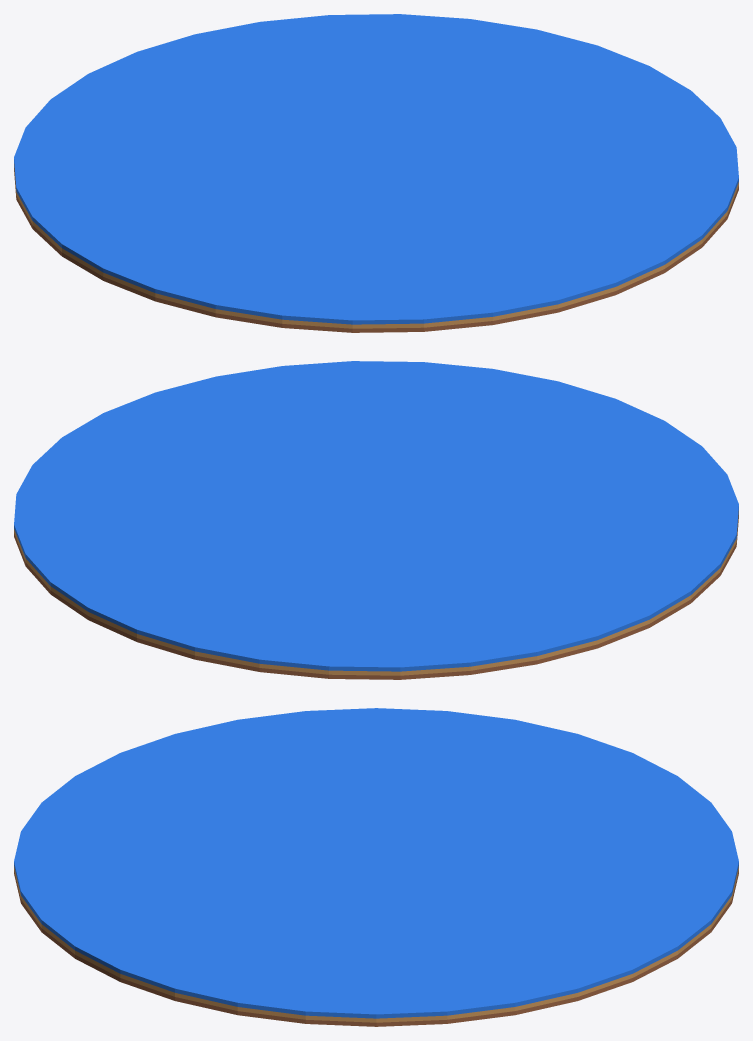
Rendered from waterPlane.gltf.
3 views of the same model, one above another, from view 1: azimuth 30°, elevation 25°; view 2: azimuth 150°, elevation 25°; view 3: azimuth 270°, elevation 25° (orthographic).
Visible parts, largest first — view 1: Circle; view 2: Circle; view 3: Circle.
Boxes of the visible parts, box(x1,y1,x2,y2) form: Circle: box(14, 14, 738, 332); Circle: box(14, 361, 738, 679); Circle: box(14, 708, 738, 1026).
Size of the model in its own units: 10 by 0.1892 by 10.
